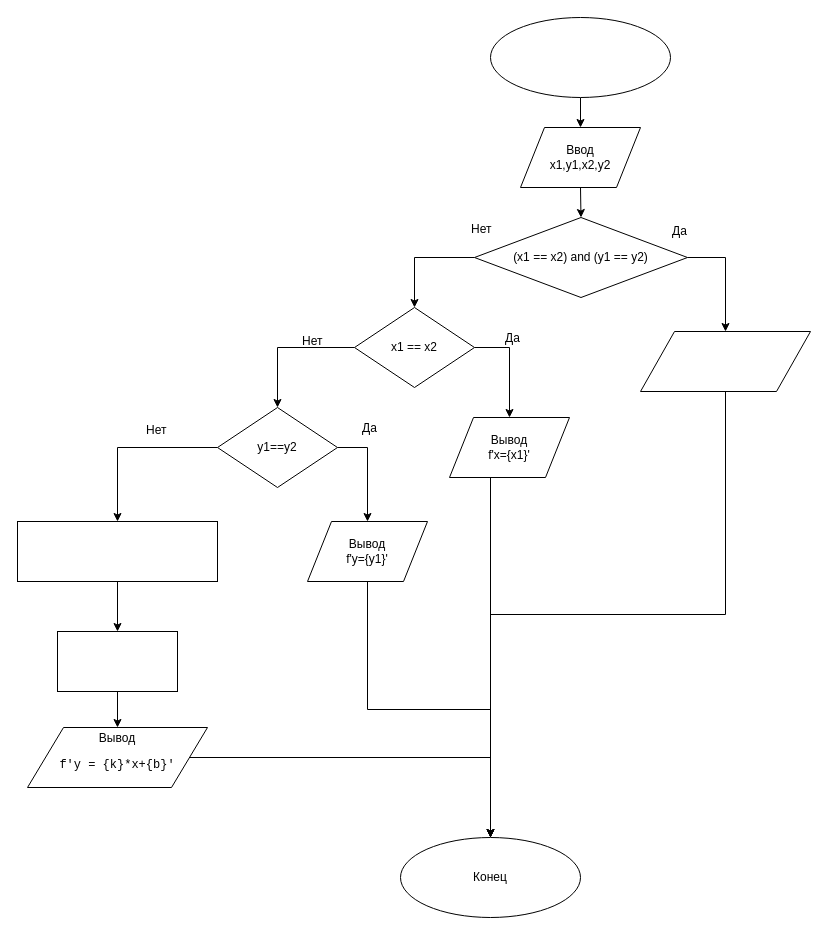
This 828x935 diagram has some shape labels left out. The box of each missing label's shape, as (x1, y1, x2, y2) in pixels:
b = y1 - k * x1: (56, 630, 178, 692)
k = (y1 - y2) / (x1 - x2): (16, 520, 218, 582)
Вывод 'Необходимо ввести координаты разных точек': (640, 330, 810, 392)
Начало: (490, 16, 670, 98)
